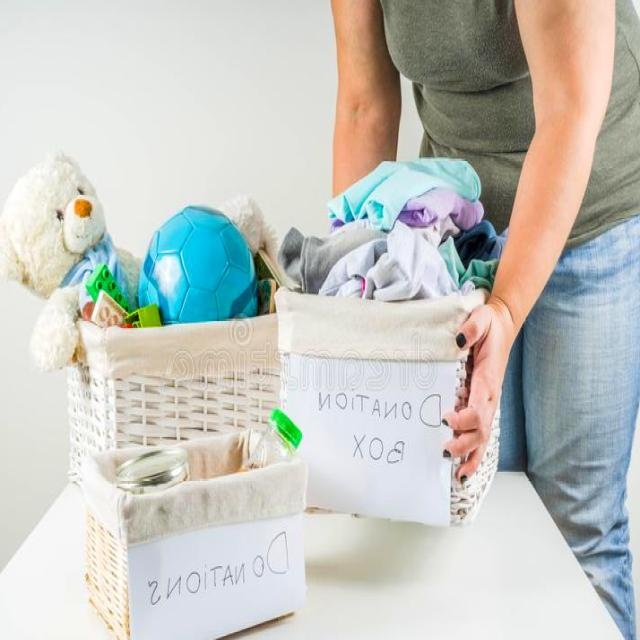clothes: (309, 168, 475, 318)
